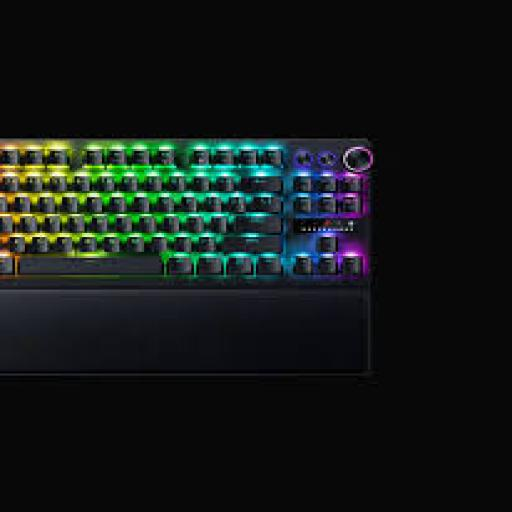keyboard: (2, 137, 376, 286)
